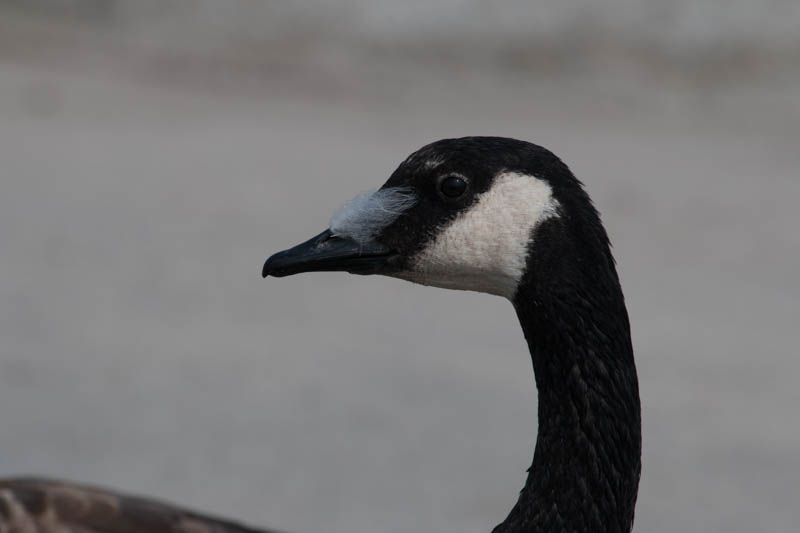goose-head: (259, 136, 616, 306)
